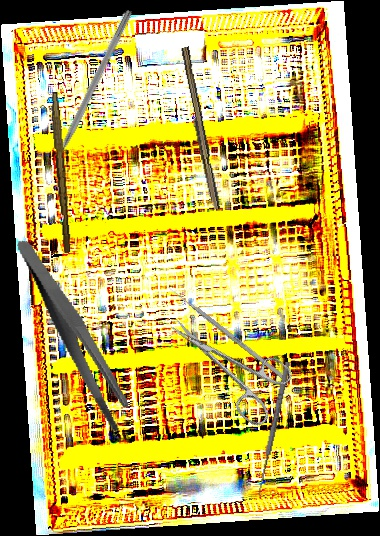Dressing Forceps: (16, 225, 134, 444)
Hook Surgical: (254, 361, 297, 498)
Iris Scissors: (154, 295, 301, 430)
Pusher: (44, 8, 134, 176), (165, 283, 285, 380)
Scalpel Handle: (175, 46, 224, 211), (46, 91, 75, 254)
